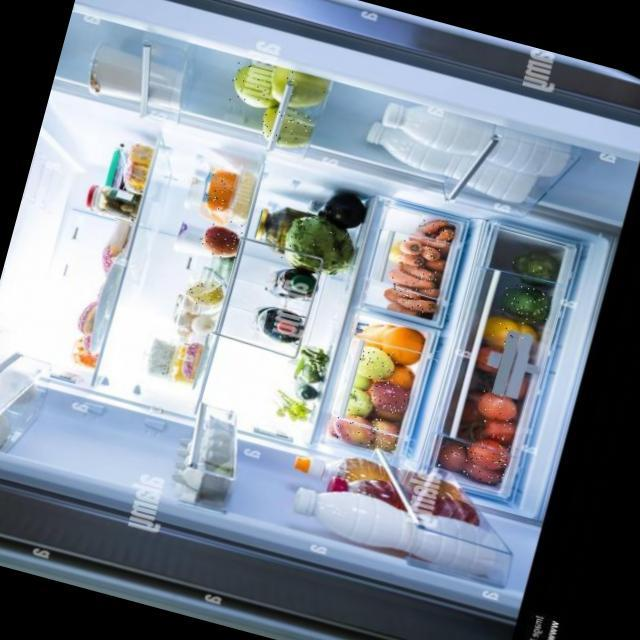Lechuga/Endivia: (279, 211, 361, 283)
Limón: (184, 273, 225, 309)
Manzana: (263, 64, 330, 114), (256, 100, 315, 153), (228, 61, 283, 111), (330, 409, 377, 449), (355, 344, 399, 384), (198, 222, 242, 261), (366, 377, 410, 416), (366, 416, 401, 452), (346, 386, 376, 417)
Queso: (226, 166, 260, 227), (203, 166, 237, 214)
Zanahoria: (388, 267, 436, 292), (398, 294, 437, 315), (408, 231, 448, 249), (417, 215, 447, 239), (402, 263, 436, 282), (391, 282, 421, 301), (396, 250, 424, 267), (398, 238, 423, 257), (424, 255, 446, 271), (421, 245, 441, 261), (436, 227, 454, 242)
green bell pepper: (508, 244, 562, 291), (498, 281, 553, 324)
tomato paste: (463, 435, 512, 473), (475, 389, 519, 424), (436, 439, 474, 474), (476, 416, 515, 444), (464, 463, 504, 486)
yellow bell pepper: (482, 312, 541, 355)
